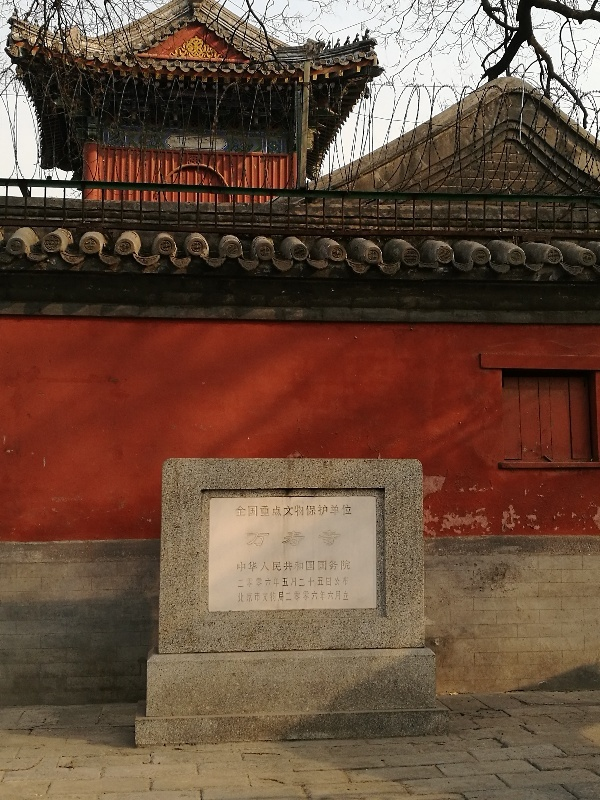text: (257, 530, 272, 549), (273, 530, 288, 549), (289, 530, 304, 549), (305, 530, 320, 549), (321, 530, 336, 549), (241, 559, 256, 573), (257, 559, 272, 573), (273, 559, 288, 573), (289, 559, 304, 573), (305, 559, 320, 573), (321, 559, 336, 573), (337, 559, 352, 573), (337, 504, 353, 517), (241, 504, 256, 517), (257, 504, 272, 517), (273, 504, 288, 517), (289, 504, 304, 517), (305, 504, 320, 517), (321, 504, 336, 517), (241, 576, 256, 589), (257, 576, 272, 589), (273, 576, 288, 589), (289, 576, 304, 589), (305, 576, 320, 589), (321, 576, 336, 589), (241, 590, 256, 603), (257, 590, 272, 603), (273, 590, 288, 603), (289, 590, 304, 603), (305, 590, 320, 603), (321, 590, 336, 603), (246, 530, 256, 549), (337, 576, 349, 589), (337, 590, 349, 603), (337, 530, 342, 549), (235, 504, 240, 517), (236, 559, 240, 573), (238, 576, 240, 589), (238, 590, 240, 603)
